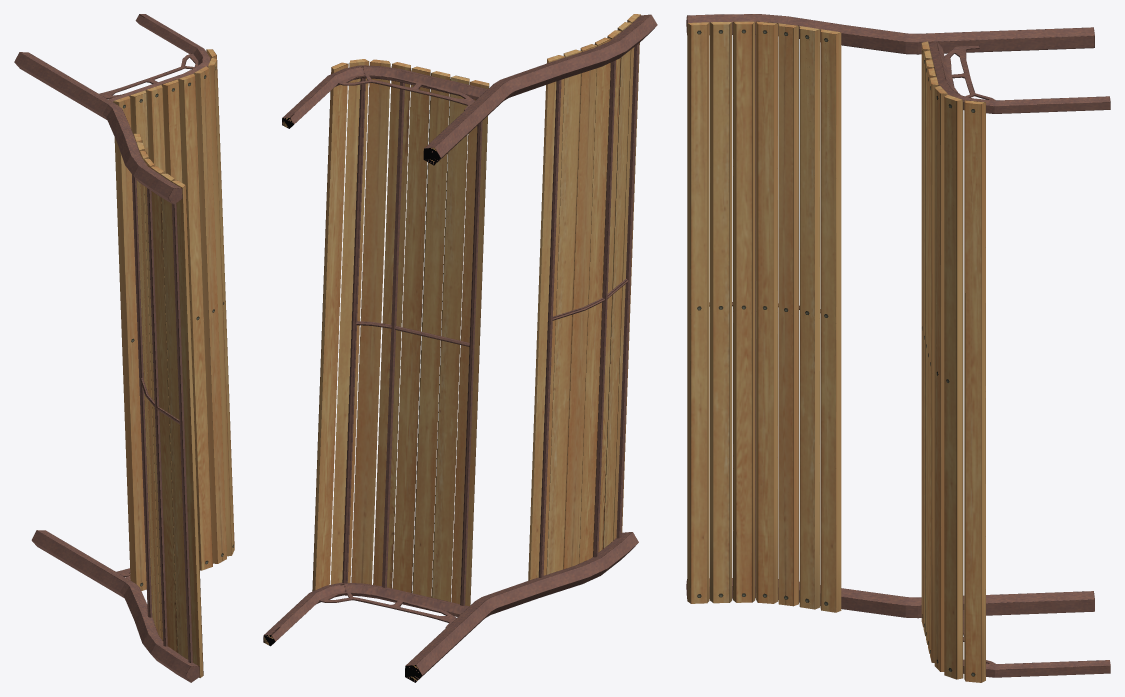
File: bench.obj
The picture shows the model from 3 angles, left to right: view 1: azimuth 30°, elevation 25°; view 2: azimuth 150°, elevation 25°; view 3: azimuth 270°, elevation 25°; orthographic projection. The views are drawn at different scales.
Visible parts, largest first — view 1: Object.3; view 2: Object.3; view 3: Object.3.
Boxes of the visible parts, <box> form: Object.3: <box>14,14,234,682</box>; Object.3: <box>263,14,657,682</box>; Object.3: <box>686,14,1110,682</box>.
Size of the model in its own units: 23.62 by 58.65 by 39.01.
Materials: 1 (1 with a texture image).
